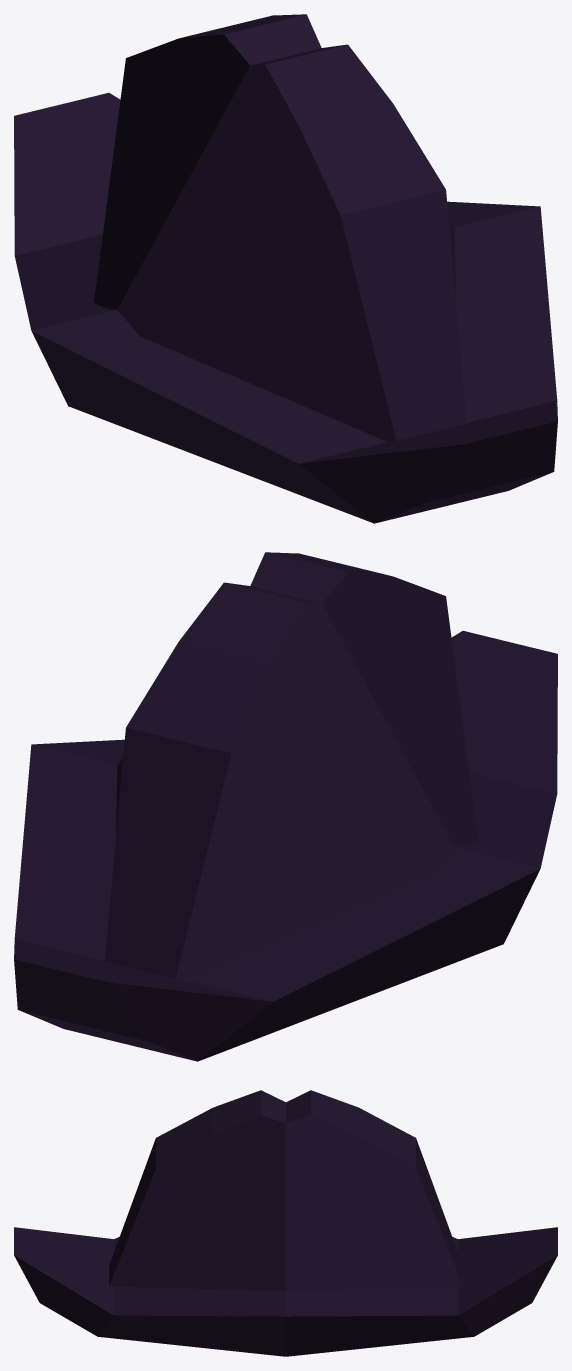
Rendered from sombreroPirata.obj.
The picture shows the model from 3 angles, top to bottom: view 1: azimuth 30°, elevation 25°; view 2: azimuth 150°, elevation 25°; view 3: azimuth 270°, elevation 25°; orthographic projection. The views are drawn at different scales.
Parts seen in each view (by area): view 1: Cube.001, Cube; view 2: Cube.001, Cube; view 3: Cube.001, Cube.
Part boxes in pixels (x1,y1,x2,y2): Cube.001: (94, 14, 467, 441); Cube: (14, 93, 557, 523); Cube.001: (104, 552, 477, 979); Cube: (14, 631, 557, 1061); Cube.001: (109, 1090, 462, 1290); Cube: (14, 1227, 557, 1356).
Size of the model in its own units: 2.08 by 1.38 by 3.18.
1 material, 1 textured.
